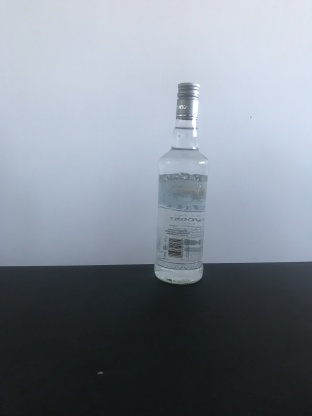nakretka: (174, 80, 201, 120)
